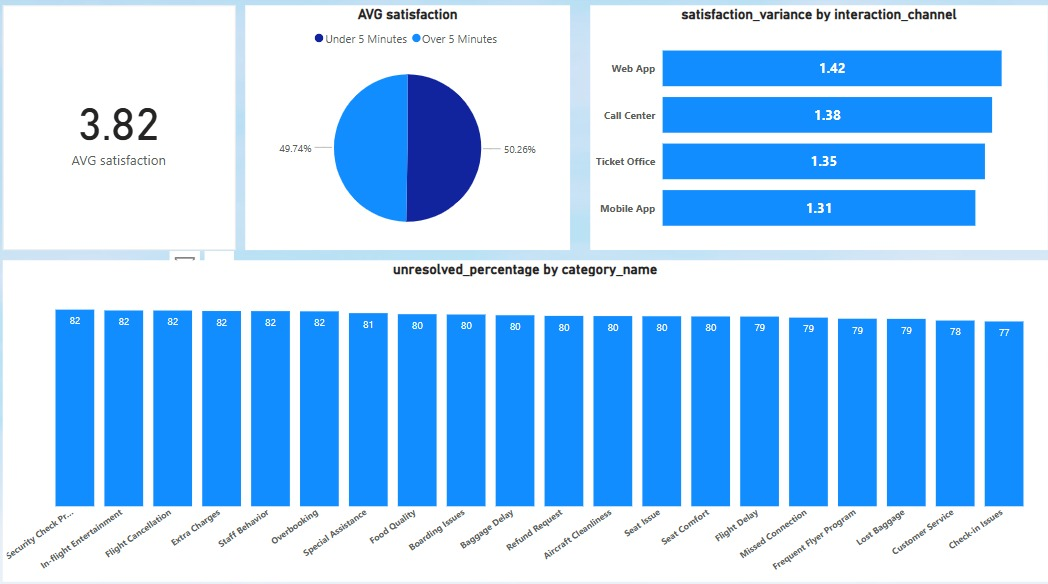

This screenshot's page, from the dashboard's own definition file:
{"tool":"powerbi","page":{"name":"Page 4","canvas":[1280,720],"ordinal":3},"visuals":[{"type":"card","fields":{"Values":["Avg(satisfaction_by_response_time_view.avg_satisfaction)"]},"box":[10.5,13.5,278.8,293.8],"z":0},{"type":"pieChart","title":"AVG satisfaction","fields":{"Category":["satisfaction_by_response_time_view.response_category"],"Y":["Sum(satisfaction_by_response_time_view.avg_satisfaction)"]},"box":[301.3,13.5,389.8,293.8],"z":1},{"type":"barChart","title":"satisfaction_variance by interaction_channel","fields":{"Category":["satisfaction_variance_view.interaction_channel"],"Y":["Sum(satisfaction_variance_view.satisfaction_variance)"]},"box":[715.1,13.5,548.7,293.8],"z":2},{"type":"columnChart","title":"unresolved_percentage by category_name","fields":{"Category":["unresolved_cases_view.category_name"],"Y":["Avg(unresolved_cases_view.unresolved_percentage)"]},"box":[10.5,319.3,1253.3,385.3],"z":3}]}

Visuals, with their boxes in screenshot pixels (x1, y1, x2, y2), scaled from the page's 1280x720 canvas onto the 1048x584 screenshot:
card - Avg(satisfaction_by_response_time_view.avg_satisfaction): {"x1": 9, "y1": 11, "x2": 237, "y2": 249}
"AVG satisfaction" pieChart: {"x1": 247, "y1": 11, "x2": 566, "y2": 249}
"satisfaction_variance by interaction_channel" barChart: {"x1": 585, "y1": 11, "x2": 1035, "y2": 249}
"unresolved_percentage by category_name" columnChart: {"x1": 9, "y1": 259, "x2": 1035, "y2": 572}
